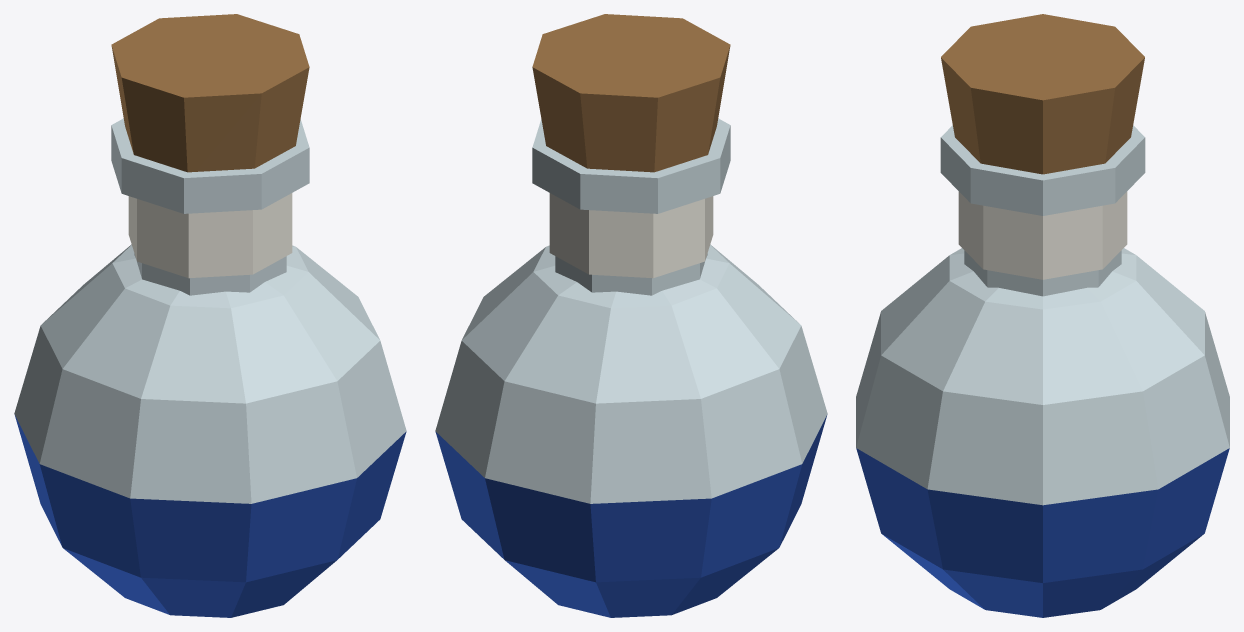
File: vfem2_draught_coma.obj
The picture shows the model from 3 angles, left to right: view 1: azimuth 30°, elevation 25°; view 2: azimuth 150°, elevation 25°; view 3: azimuth 270°, elevation 25°; orthographic projection.
Parts seen in each view (by area): view 1: vfem2_draught_coma; view 2: vfem2_draught_coma; view 3: vfem2_draught_coma.
Boxes of the visible parts, x1,y1,x2,y2 form: vfem2_draught_coma: (14, 14, 406, 617); vfem2_draught_coma: (435, 14, 827, 617); vfem2_draught_coma: (856, 14, 1229, 617).
Size of the model in its own units: 0.2 by 0.305 by 0.1902.
